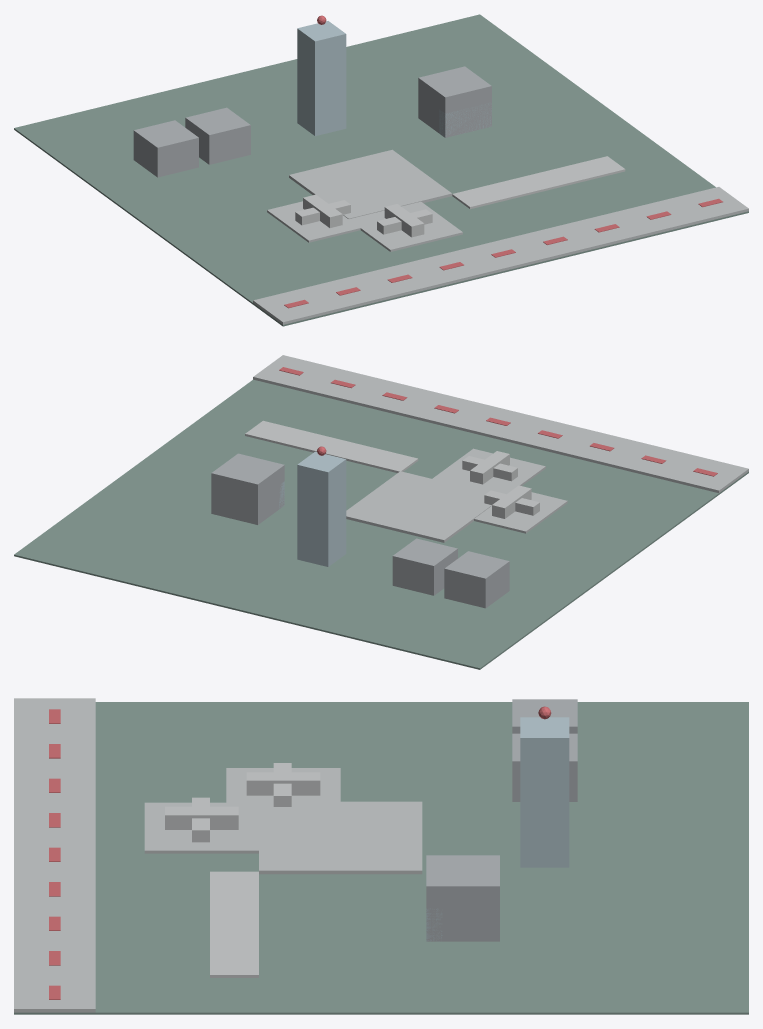
The model's file is stage_08.glb.
3 views of the same model, one above another, from view 1: azimuth 30°, elevation 25°; view 2: azimuth 150°, elevation 25°; view 3: azimuth 270°, elevation 25° (orthographic). The views are drawn at different scales.
Parts seen in each view (by area): view 1: geometry_0; view 2: geometry_0; view 3: geometry_0.
Boxes of the visible parts, x1,y1,x2,y2 form: geometry_0: (14,14,748,326); geometry_0: (14,355,748,669); geometry_0: (14,698,748,1014).
Bounding box in the file's own units: 9 × 2.06 × 9.
